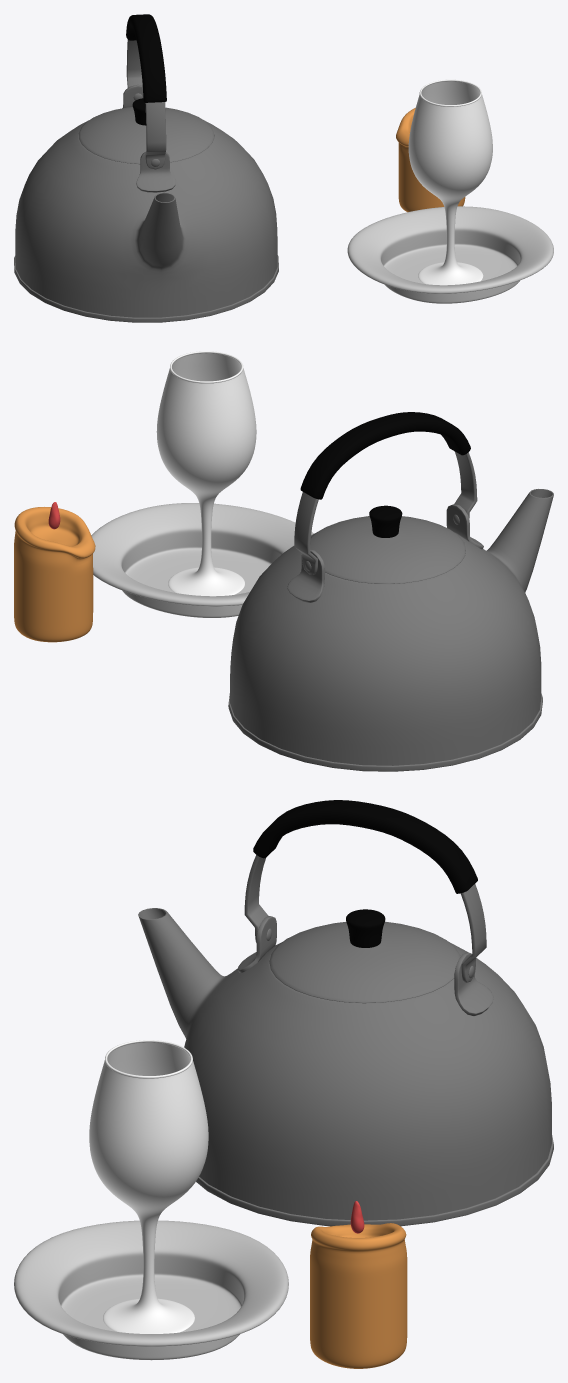
File: wine.obj
3 renders of one model, top to bottom at view 1: azimuth 30°, elevation 25°; view 2: azimuth 150°, elevation 25°; view 3: azimuth 270°, elevation 25°, orthographic. The views are drawn at different scales.
Parts seen in each view (by area): view 1: Teapot.001, Cube.003, Wine_Glass, CAP, Grip, Cube.002; view 2: Teapot.001, Cube.003, Wine_Glass, Cube.002, CAP, Grip; view 3: Teapot.001, Cube.003, Wine_Glass, Cube.002, CAP, Grip.
Boxes of the visible parts, x1,y1,x2,y2 form: Teapot.001: [14, 84, 278, 322]; Cube.003: [347, 206, 553, 303]; Wine_Glass: [408, 79, 492, 285]; CAP: [78, 98, 214, 164]; Grip: [126, 14, 166, 169]; Cube.002: [396, 108, 465, 212]; Teapot.001: [228, 489, 553, 771]; Cube.003: [91, 503, 313, 617]; Wine_Glass: [156, 351, 256, 596]; Cube.002: [14, 507, 95, 642]; CAP: [310, 505, 465, 583]; Grip: [294, 412, 477, 574]; Teapot.001: [138, 908, 553, 1226]; Cube.003: [14, 1220, 288, 1360]; Wine_Glass: [89, 1040, 208, 1333]; Cube.002: [310, 1223, 407, 1368]; CAP: [269, 909, 460, 1003]; Grip: [244, 800, 486, 982].
Size of what is drawn, in the model's own units: 0.4032 by 0.2237 by 0.3076.
